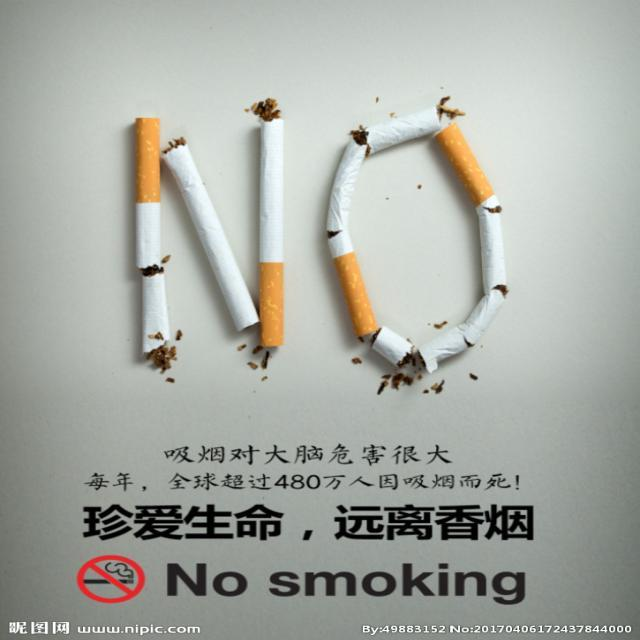cigarette: (254, 88, 294, 356)
